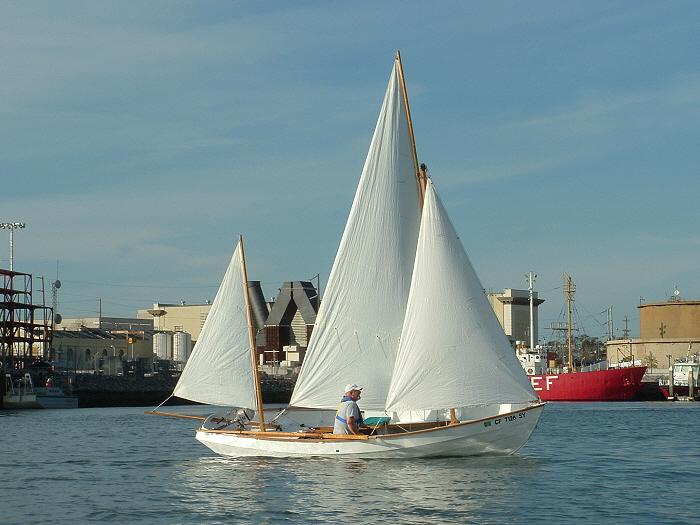Ship: (149, 55, 548, 463)
